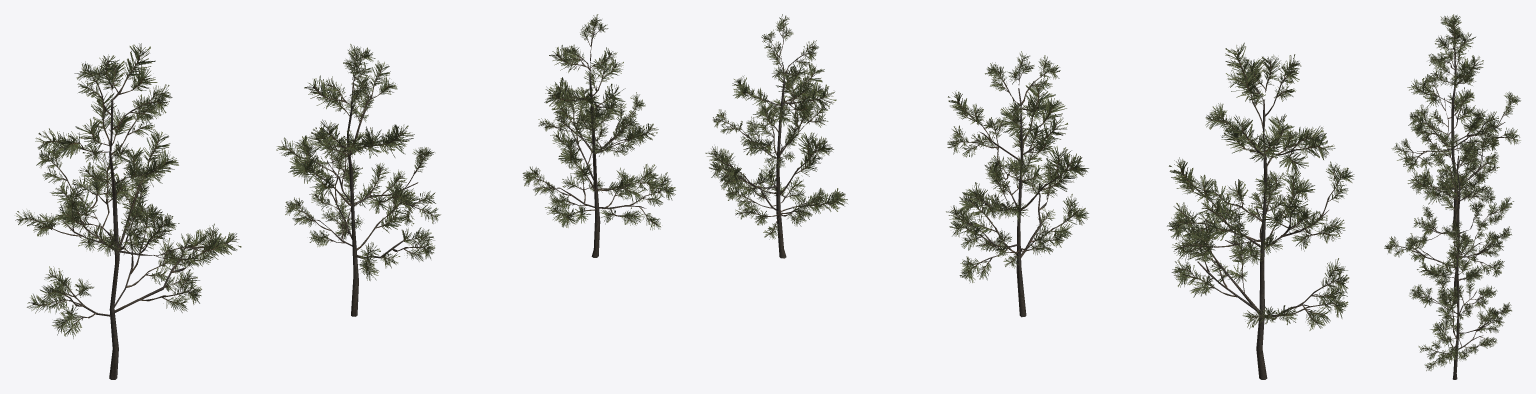
Rendered from pine_sapling_small_lod.glb.
The picture shows the model from 3 angles, left to right: view 1: azimuth 30°, elevation 25°; view 2: azimuth 150°, elevation 25°; view 3: azimuth 270°, elevation 25°; orthographic projection. The views are drawn at different scales.
Visible parts, largest first — view 1: pine_sapling_small_a, pine_sapling_small_b, pine_sapling_small_c; view 2: pine_sapling_small_a, pine_sapling_small_b, pine_sapling_small_c; view 3: pine_sapling_small_a, pine_sapling_small_b, pine_sapling_small_c.
Boxes of the visible parts, left/top/right/bottom form: pine_sapling_small_a: left=15, top=43, right=241, bottom=379; pine_sapling_small_b: left=276, top=44, right=440, bottom=316; pine_sapling_small_c: left=522, top=14, right=675, bottom=257; pine_sapling_small_a: left=1167, top=42, right=1354, bottom=379; pine_sapling_small_b: left=946, top=51, right=1088, bottom=317; pine_sapling_small_c: left=705, top=14, right=847, bottom=258; pine_sapling_small_a: left=1391, top=14, right=1520, bottom=230; pine_sapling_small_b: left=1384, top=134, right=1513, bottom=304; pine_sapling_small_c: left=1409, top=222, right=1511, bottom=379.
Bounding box in the file's own units: 2.64 × 1.3 × 0.7705.
Materials: 2 (2 with a texture image).
